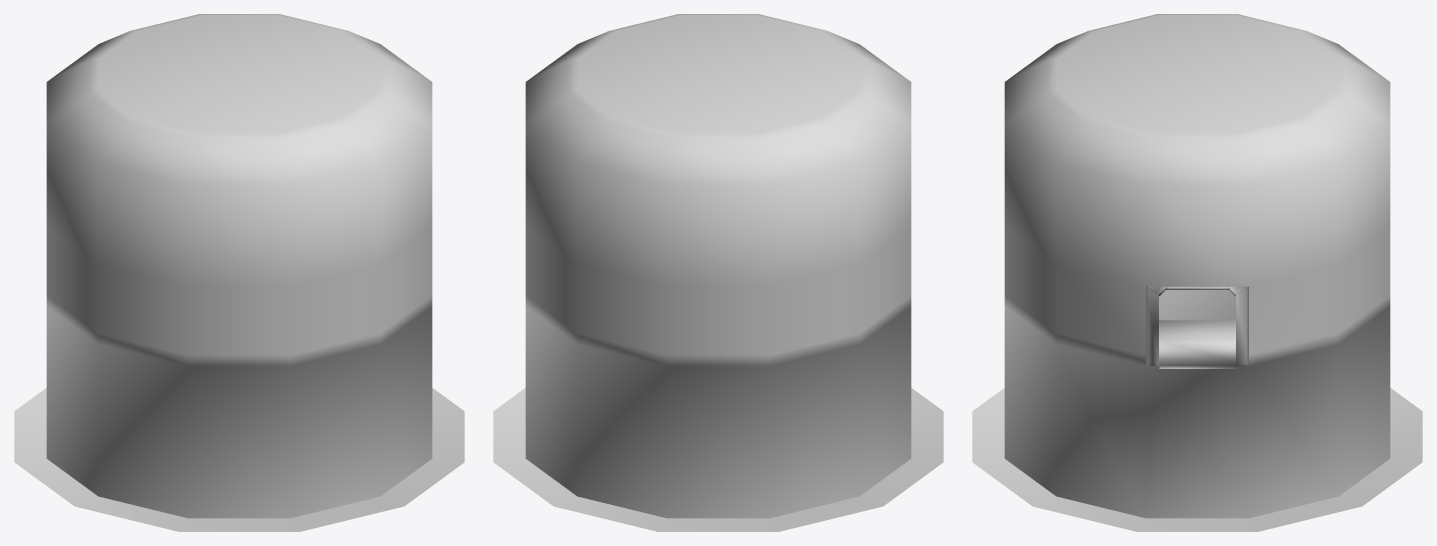
The model's file is reactor.fbx.
The picture shows the model from 3 angles, left to right: view 1: azimuth 30°, elevation 25°; view 2: azimuth 150°, elevation 25°; view 3: azimuth 270°, elevation 25°; orthographic projection.
Parts seen in each view (by area): view 1: Cylinder_002; view 2: Cylinder_002; view 3: Cylinder_002.
Part boxes in pixels (<box>): Cylinder_002: <box>14,14,464,531</box>; Cylinder_002: <box>493,14,943,531</box>; Cylinder_002: <box>972,14,1422,531</box>.
Size of the model in its own units: 36.1 by 34.59 by 36.1.
